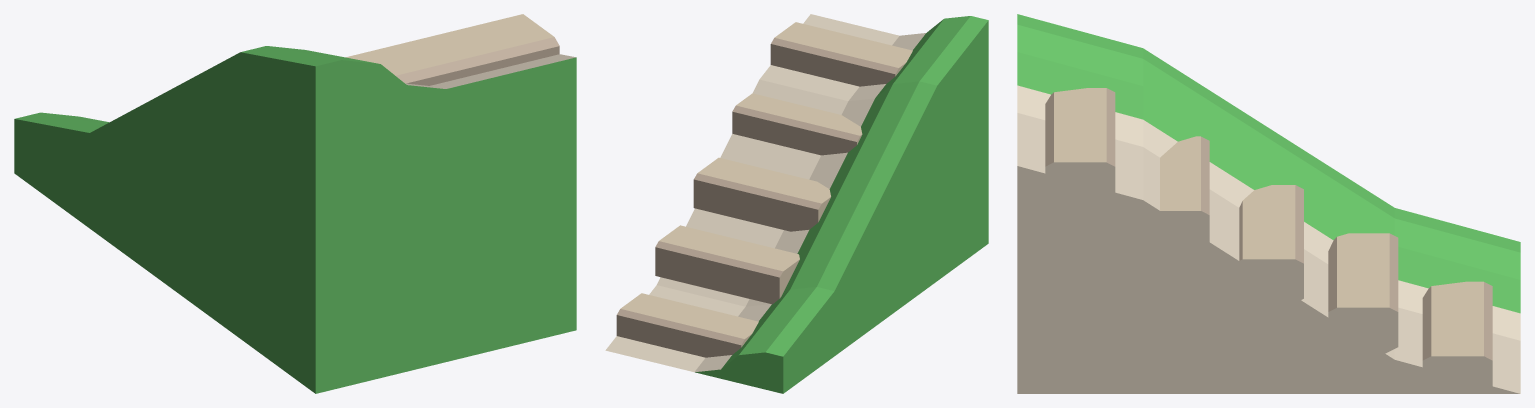
File: Path_Hill_Sharp_Side.glb
3 views of the same model, side by side, from view 1: azimuth 30°, elevation 25°; view 2: azimuth 150°, elevation 25°; view 3: azimuth 270°, elevation 25° (orthographic). The views are drawn at different scales.
Parts seen in each view (by area): view 1: object1; view 2: object1; view 3: object1.
Part boxes in pixels (box(x1,y1,x2,y2)): object1: box(14, 14, 576, 393); object1: box(605, 14, 988, 393); object1: box(1017, 14, 1520, 393).
Size of the model in its own units: 1 by 1.2 by 2.
